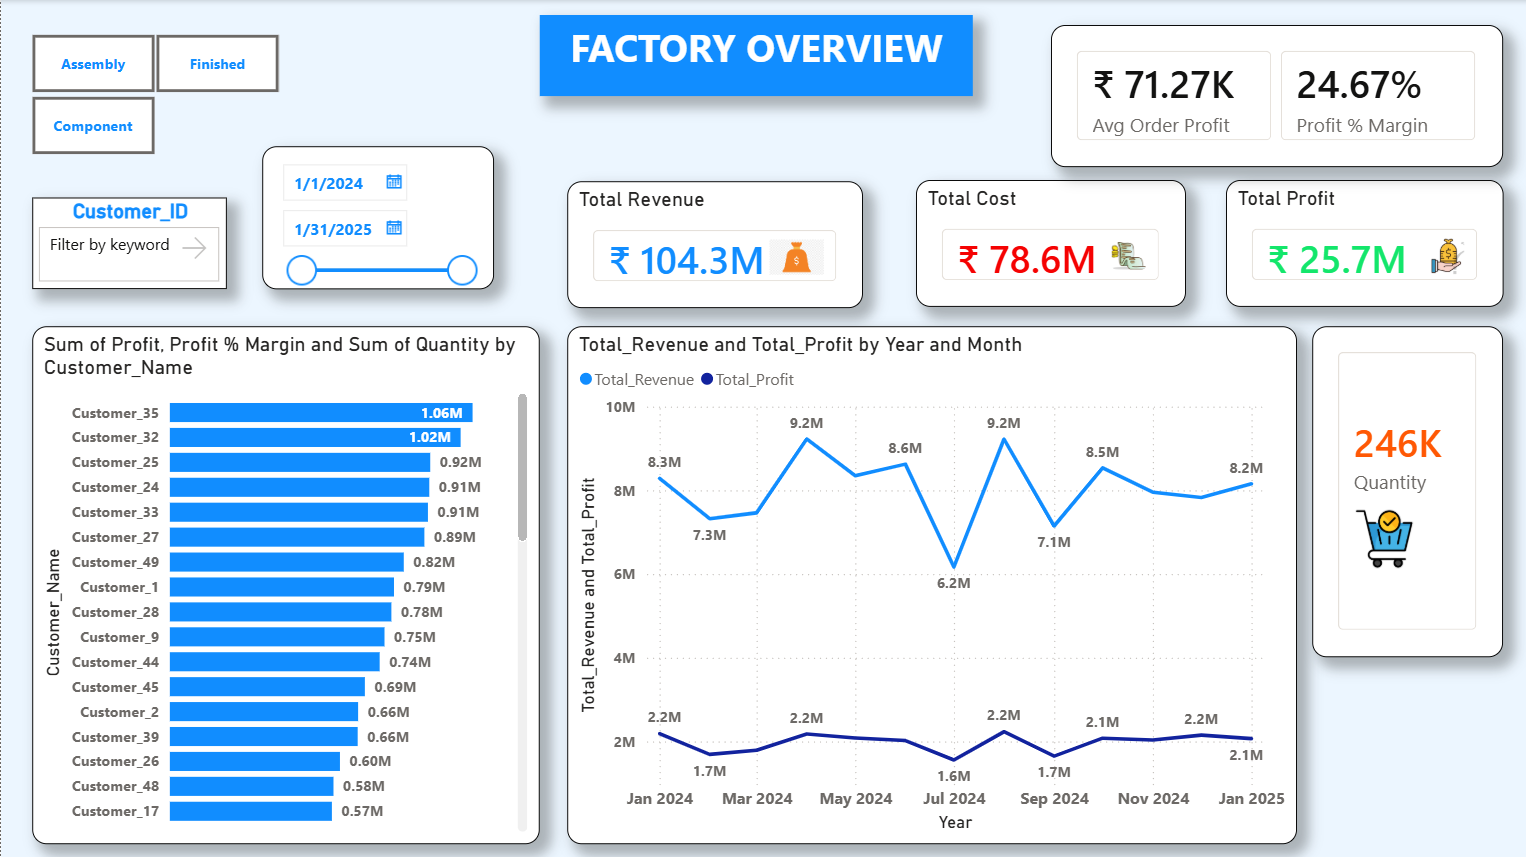

The dashboard page shown, as its layout file describes it:
{"tool":"powerbi","page":{"name":"FACTORY OVERVIEW","canvas":[1280,720],"ordinal":0},"visuals":[{"type":"cardVisual","title":"Total Revenue","fields":{"Data":["factory_order_lines_1000.Total_Revenue"]},"box":[474.7,151.5,248.2,106.8],"z":0},{"type":"cardVisual","title":"Total Cost","fields":{"Data":["factory_order_lines_1000.Total_cost"]},"box":[767.1,151.3,226,106.8],"z":1000},{"type":"cardVisual","title":"Total Profit","fields":{"Data":["factory_order_lines_1000.Total_Profit"]},"box":[1026.9,151.3,233.2,106.8],"z":2000},{"type":"cardVisual","fields":{"Data":["factory_order_lines_1000.Avg Order Profit","factory_order_lines_1000.Profit % Margin"]},"box":[881,21.4,379.1,119.2],"z":3000},{"type":"lineChart","fields":{"Y":["factory_order_lines_1000.Total_Revenue","factory_order_lines_1000.Total_Profit"],"Category":["Date.Date.Variation.Date Hierarchy.Year","Date.Date.Variation.Date Hierarchy.Month"]},"box":[475.2,274.1,612.2,434.3],"z":4000},{"type":"clusteredBarChart","fields":{"Y":["Sum(factory_order_lines_1000.Profit)"],"Category":["factory_customers.Customer_Name"]},"box":[26,274.1,425.6,434.3],"z":5000},{"type":"slicer","fields":{"Values":["factory_products.Category"]},"box":[0,21.6,256.8,114],"z":6000},{"type":"slicer","fields":{"Values":["factory_orders.Order_Date"]},"box":[219.3,122.6,194.8,119.7],"z":7000},{"type":"textSlicer","fields":{"Values":["factory_orders.Customer_ID"]},"box":[26,165.9,163,76.5],"z":8000},{"type":"textbox","box":[451.6,13,363.6,67.8],"z":9000},{"type":"cardVisual","fields":{"Data":["Sum(factory_order_lines_1000.Quantity)"]},"box":[1099.9,274.1,160.2,277.6],"z":10000}]}

Visuals, with their boxes in screenshot pixels (x1, y1, x2, y2), scaled from the page's 1280x720 canvas onto the 1526x857 screenshot:
"Total Revenue" cardVisual: [x1=566, y1=180, x2=862, y2=307]
"Total Cost" cardVisual: [x1=915, y1=180, x2=1184, y2=307]
"Total Profit" cardVisual: [x1=1224, y1=180, x2=1502, y2=307]
cardVisual - factory_order_lines_1000.Avg Order Profit x factory_order_lines_1000.Profit % Margin: [x1=1050, y1=25, x2=1502, y2=167]
lineChart - factory_order_lines_1000.Total_Revenue x factory_order_lines_1000.Total_Profit: [x1=567, y1=326, x2=1296, y2=843]
clusteredBarChart - Sum(factory_order_lines_1000.Profit) x factory_customers.Customer_Name: [x1=31, y1=326, x2=538, y2=843]
slicer - factory_products.Category: [x1=0, y1=26, x2=306, y2=161]
slicer - factory_orders.Order_Date: [x1=261, y1=146, x2=494, y2=288]
textSlicer - factory_orders.Customer_ID: [x1=31, y1=197, x2=225, y2=289]
textbox: [x1=538, y1=15, x2=972, y2=96]
cardVisual - Sum(factory_order_lines_1000.Quantity): [x1=1311, y1=326, x2=1502, y2=657]
